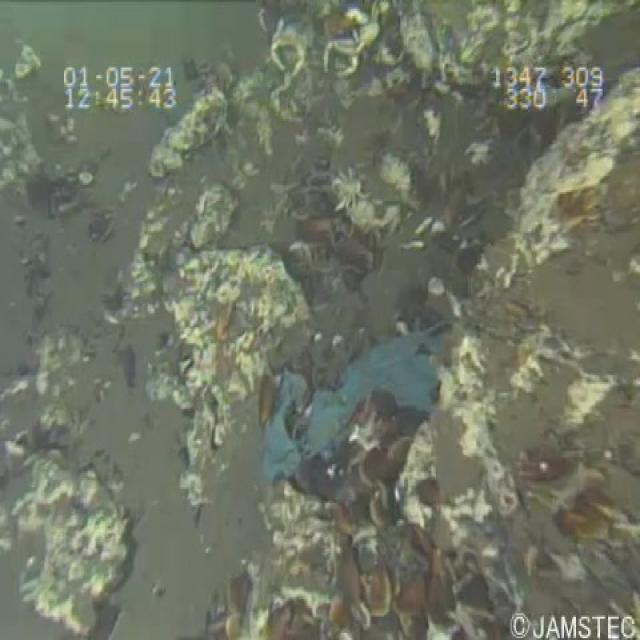plastic: (248, 304, 464, 496)
